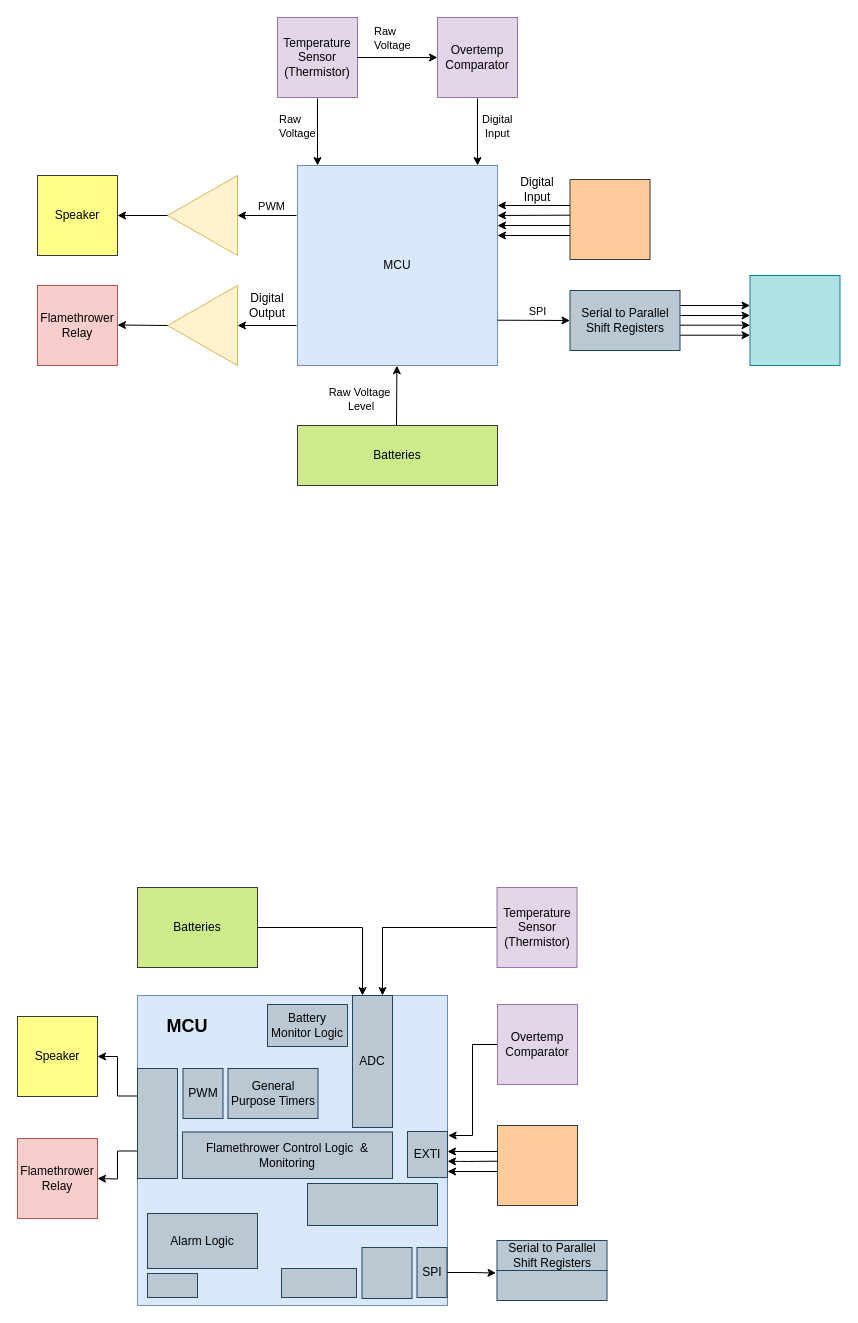
The diagram is 858 pixels wide and 1323 high, and some of its shapes have lost their labels. Each missing label, with the box of its shape:
7-Seg Display: (496, 1270, 607, 1300)
7-Segment Display: (749, 274, 840, 366)
Amplifier: (166, 174, 238, 256)
Bitmap Lookup Table: (280, 1268, 356, 1298)
Buttons: (496, 1124, 578, 1206)
Current Buffer: (166, 284, 238, 366)
GPIO: (136, 1068, 178, 1178)
Graphics: (361, 1246, 412, 1298)
RTC: (146, 1272, 198, 1298)
User Buttons: (569, 178, 650, 260)
User Interface: (306, 1182, 438, 1226)
